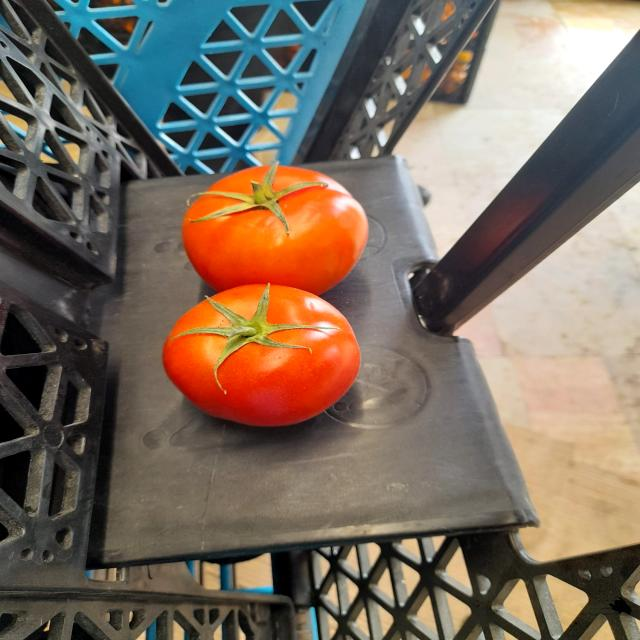tomato: (140, 276, 392, 436), (176, 160, 384, 295)
